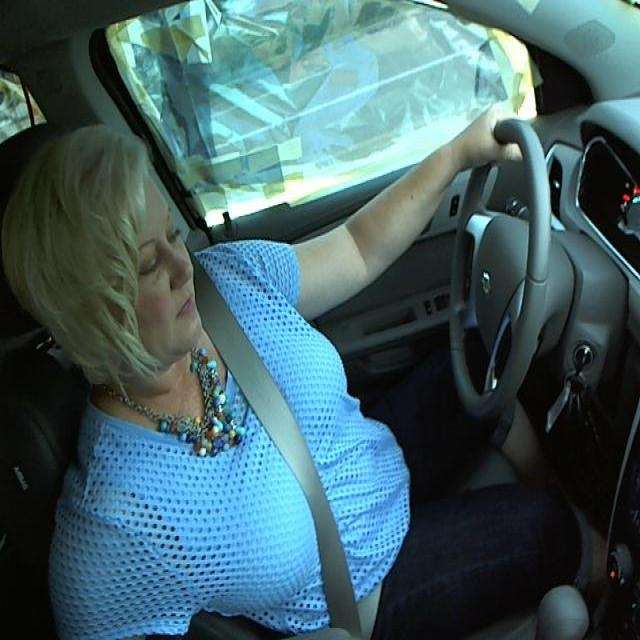seatbelt: (201, 314, 370, 634)
